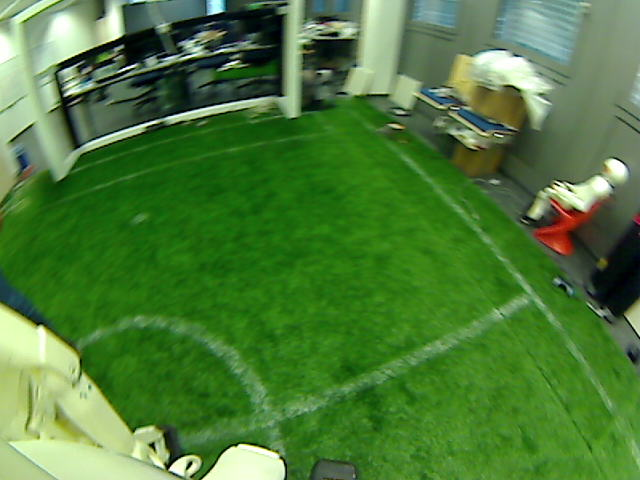ball: (426, 111, 448, 135)
goalpost: (284, 81, 303, 120), (51, 152, 69, 182)
robot: (123, 410, 186, 457)
